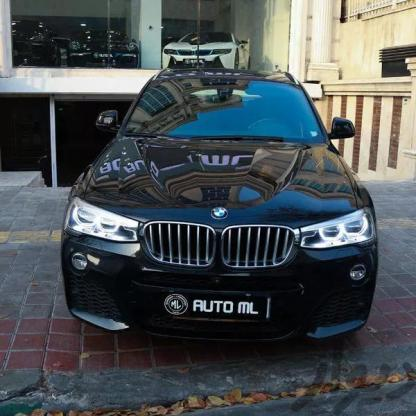Car: (53, 68, 384, 373), (156, 30, 254, 78)
